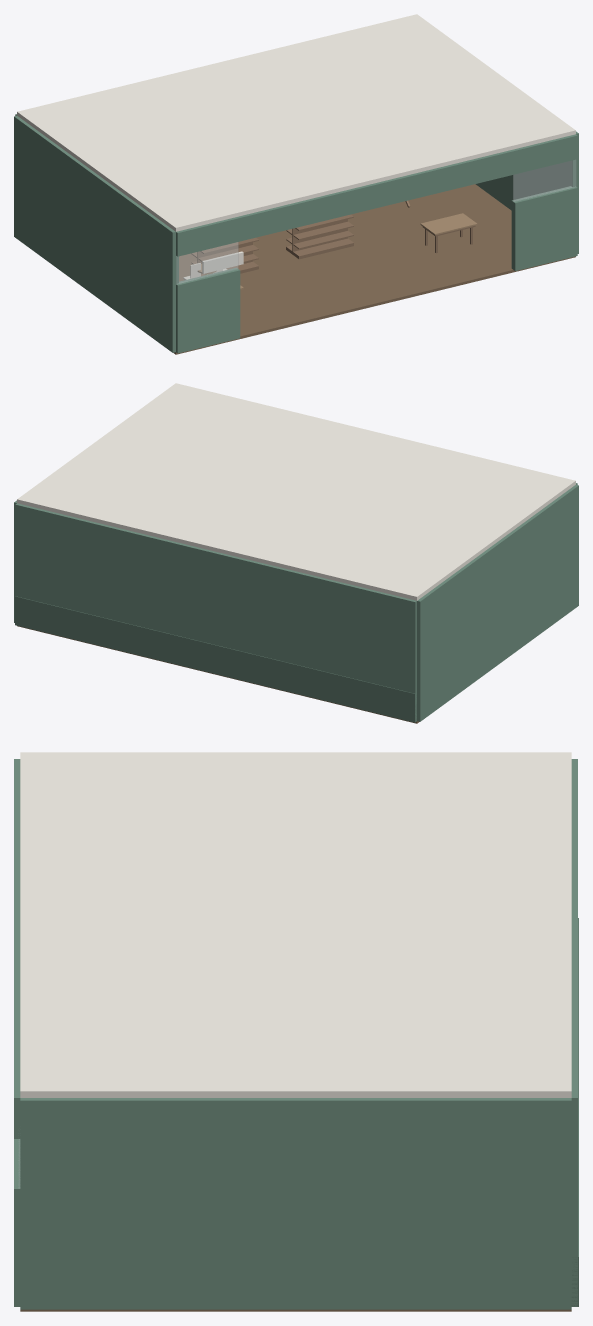
File: bookstore.glb
3 renders of one model, top to bottom at view 1: azimuth 30°, elevation 25°; view 2: azimuth 150°, elevation 25°; view 3: azimuth 270°, elevation 25°, orthographic. The views are drawn at different scales.
Visible parts, largest first — view 1: static_book_ceiling, static_book_green, static_book_floor, static_book_glass, static_book_wood, static_book_table_top, static_book_sign_face; view 2: static_book_ceiling, static_book_green, static_book_green_dark, static_book_floor; view 3: static_book_ceiling, static_book_green, static_book_floor.
Part boxes in pixels (box(x1,y1,x2,y2)): static_book_ceiling: box(17, 14, 575, 231); static_book_green: box(14, 114, 578, 353); static_book_floor: box(173, 184, 575, 354); static_book_glass: box(176, 160, 575, 283); static_book_wood: box(191, 200, 475, 275); static_book_table_top: box(197, 213, 477, 289); static_book_sign_face: box(202, 251, 243, 273); static_book_ceiling: box(17, 383, 575, 600); static_book_green: box(14, 483, 578, 721); static_book_green_dark: box(15, 596, 416, 722); static_book_floor: box(17, 625, 419, 723); static_book_ceiling: box(20, 752, 571, 1097); static_book_green: box(14, 759, 577, 1309); static_book_floor: box(20, 1309, 571, 1311).
Bounding box in the file's own units: 16.25 × 4.85 × 11.27.
